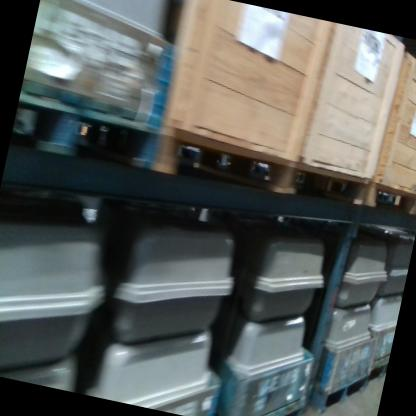pallet: (8, 76, 166, 176), (308, 355, 370, 416), (238, 380, 306, 416), (366, 349, 390, 381)
